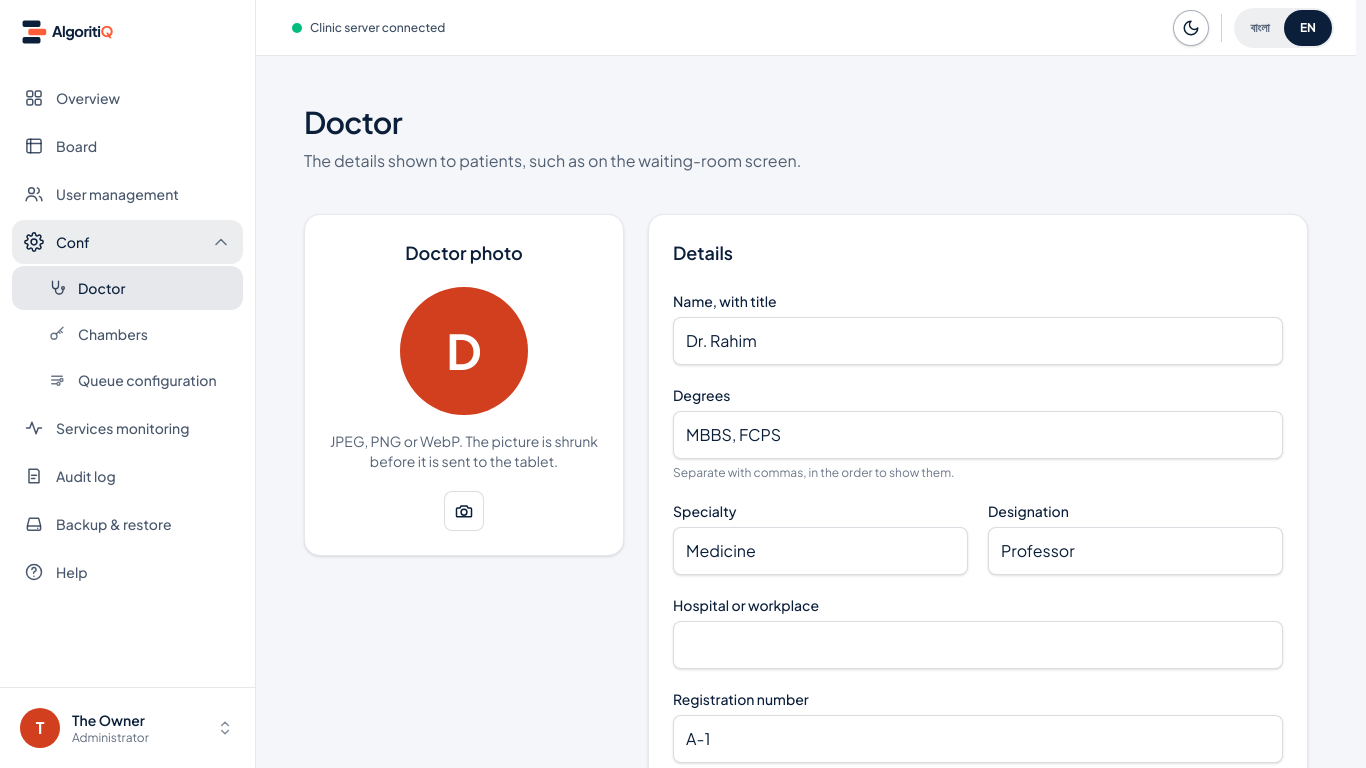
doctor page › should save, splitting the degrees, and say so in a toast
Step 1. Replace the text in the field labelled "Name, with title" with "Prof. Dr. Rahim" → coordinates (978, 341), box [673,317,1283,365]
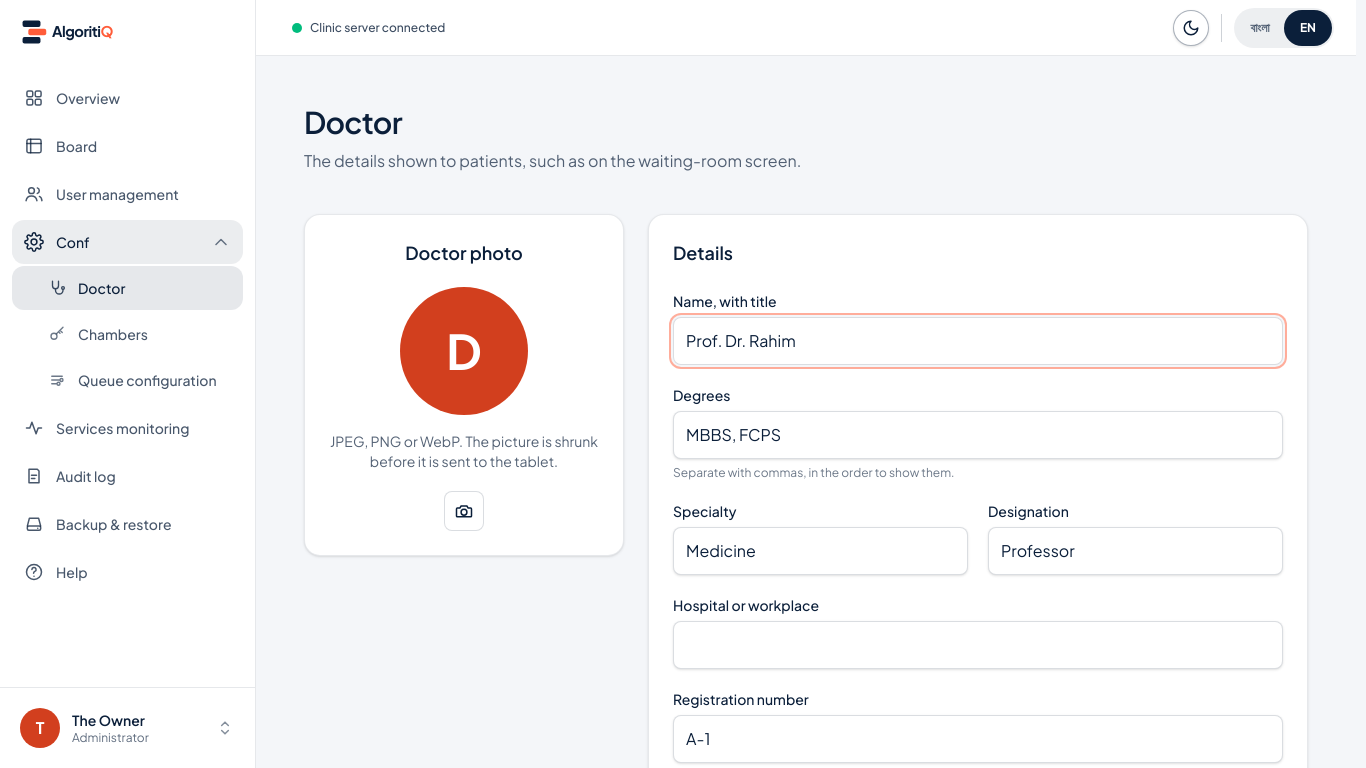
Step 2. Type " , MD" into the field labelled "Degrees" → coordinates (978, 435), box [673,411,1283,459]
(page scrolled)
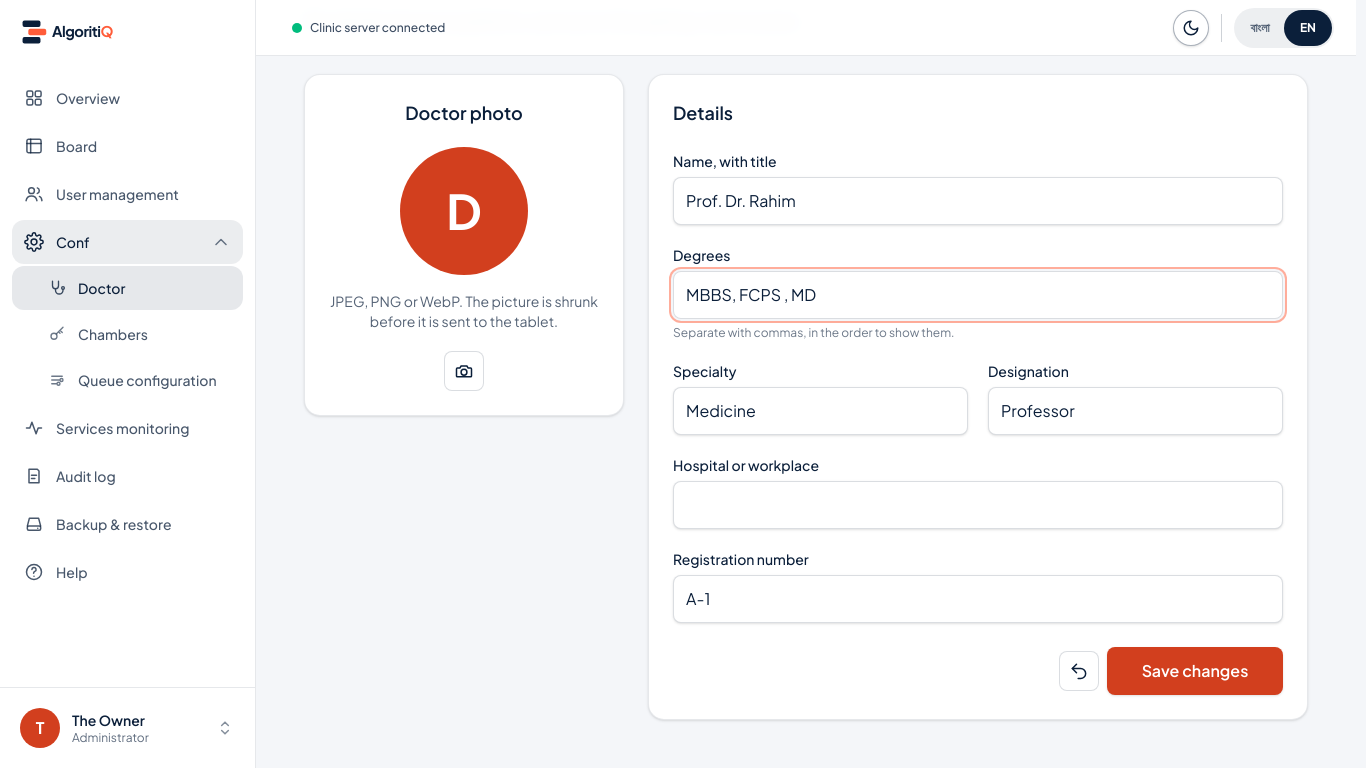
Step 3. Click the button "Save changes" → coordinates (1195, 671), box [1107,647,1283,695]
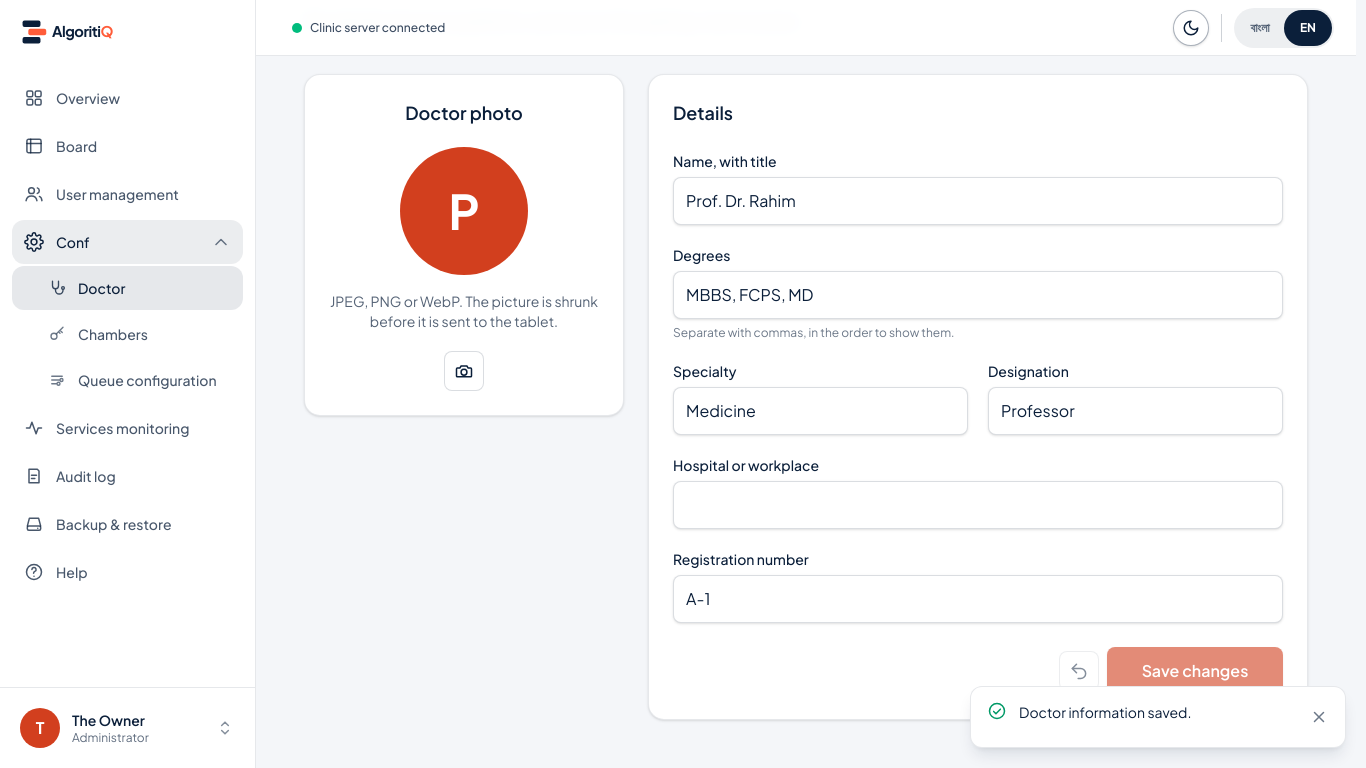
Result: the text "Doctor information saved." is shown at [1019,703,1191,721]
Result: the button "Save changes" is disabled at [1107,647,1283,695]
